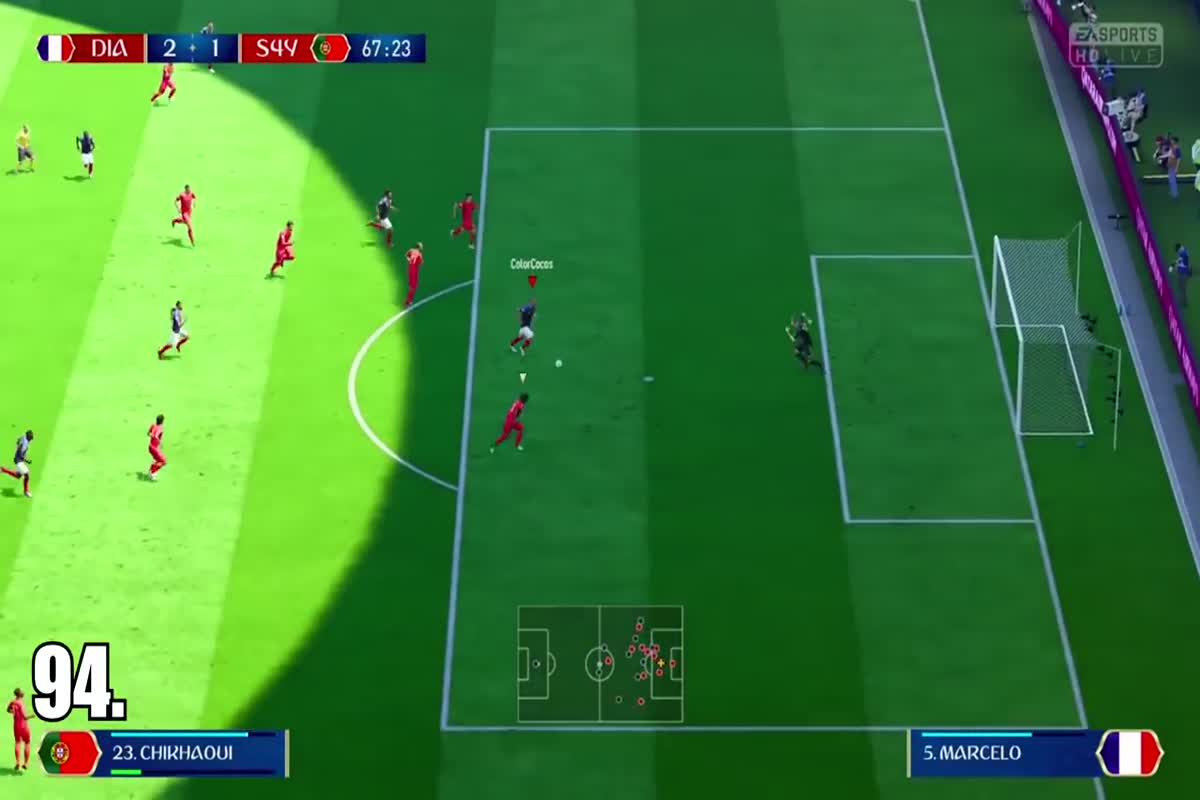ball: (546, 355, 584, 377)
